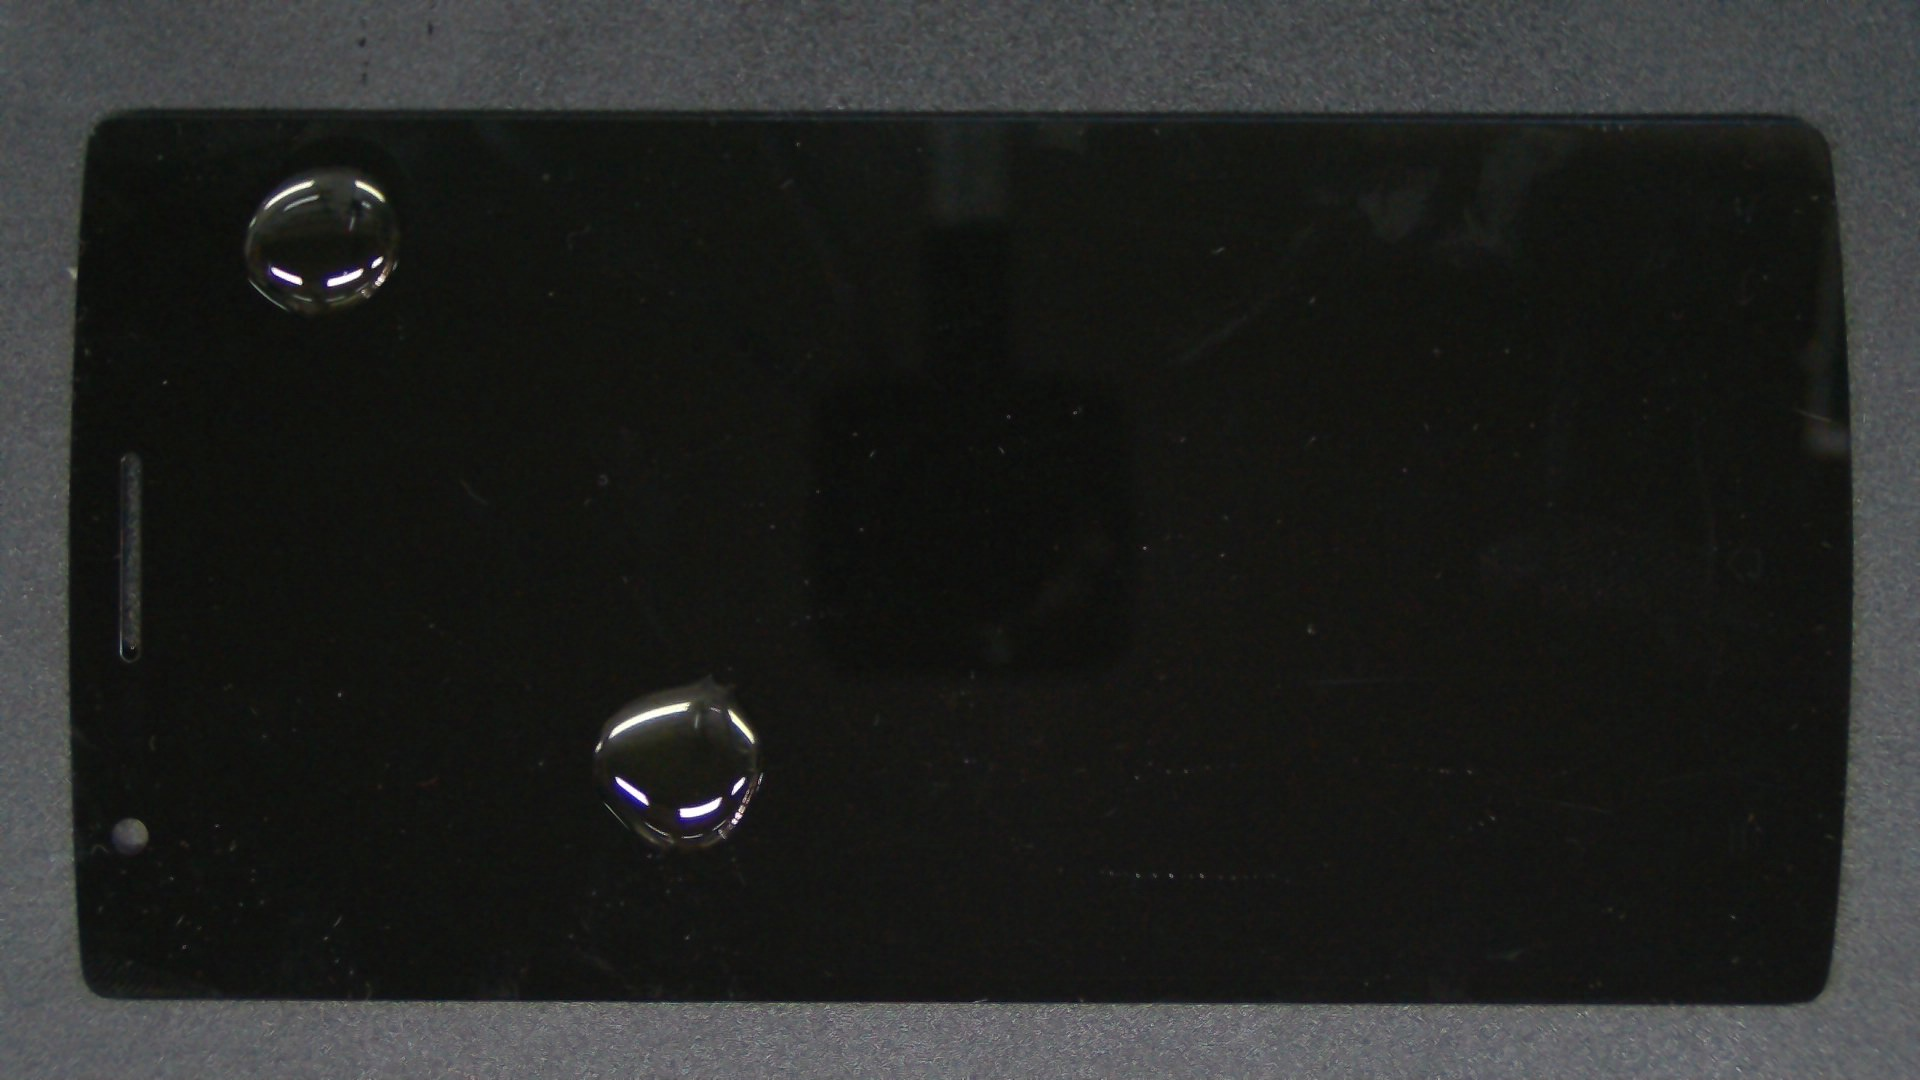oil: (353, 338, 1058, 1015), (170, 83, 506, 249)
